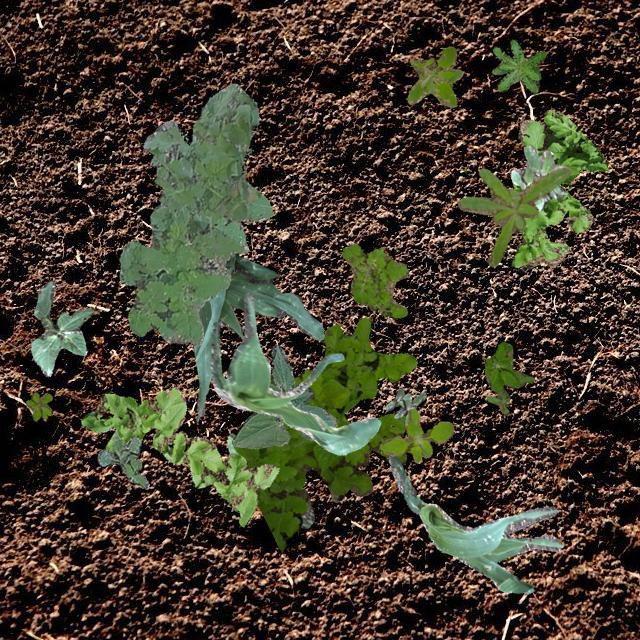crop: (210, 292, 380, 454), (386, 454, 562, 592), (192, 252, 324, 420), (232, 343, 336, 448), (225, 432, 312, 528), (29, 280, 92, 376)
weed: (233, 316, 417, 550), (119, 83, 272, 344), (80, 386, 278, 526), (510, 110, 608, 266), (456, 166, 570, 266), (342, 242, 408, 316), (378, 408, 452, 462), (483, 340, 532, 414), (404, 46, 462, 108), (510, 146, 566, 210), (490, 38, 546, 92), (96, 432, 148, 488), (384, 388, 424, 424), (24, 392, 52, 419)
